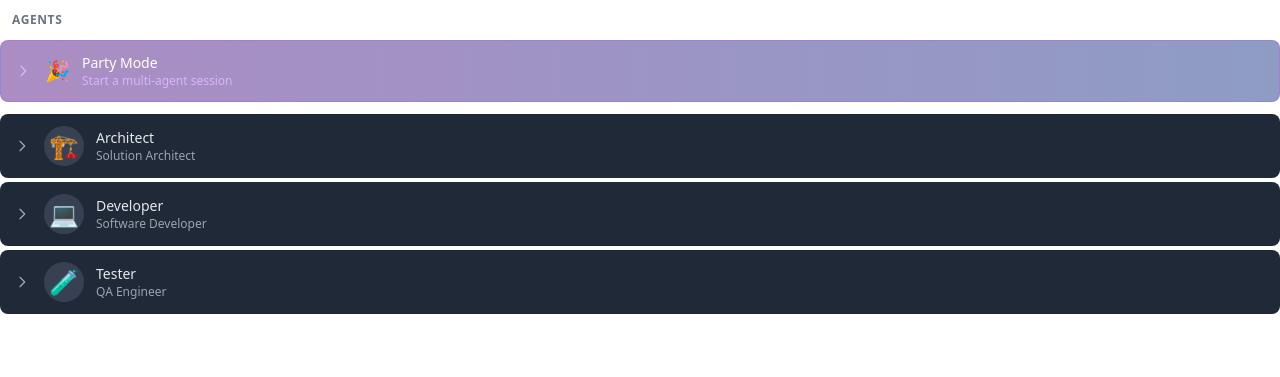
Test: AgentRoster › loading state › shows starting message when clicking agent
Click the button "🏗️ Architect Solution Architect" at [64, 146], box [44,126,1268,166]
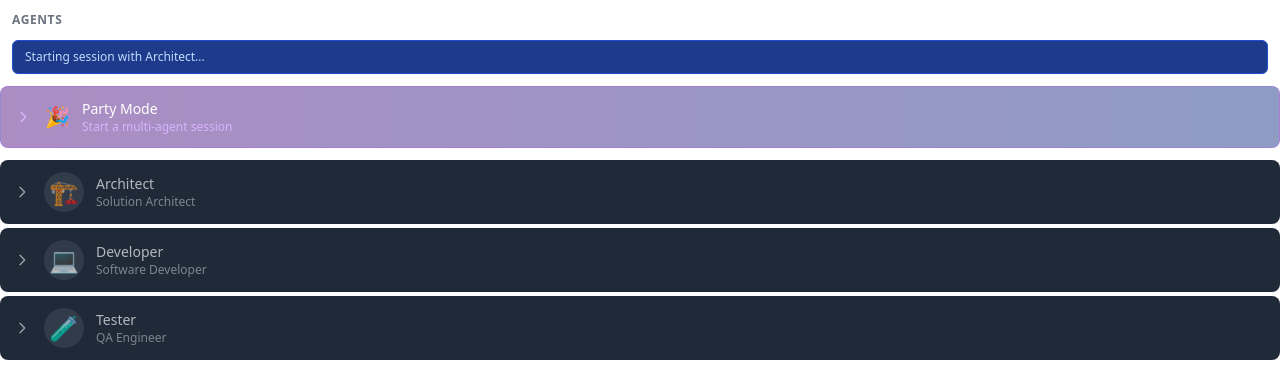
expect the text "Starting session with Architect..." is shown: met, box [12,40,1268,74]
